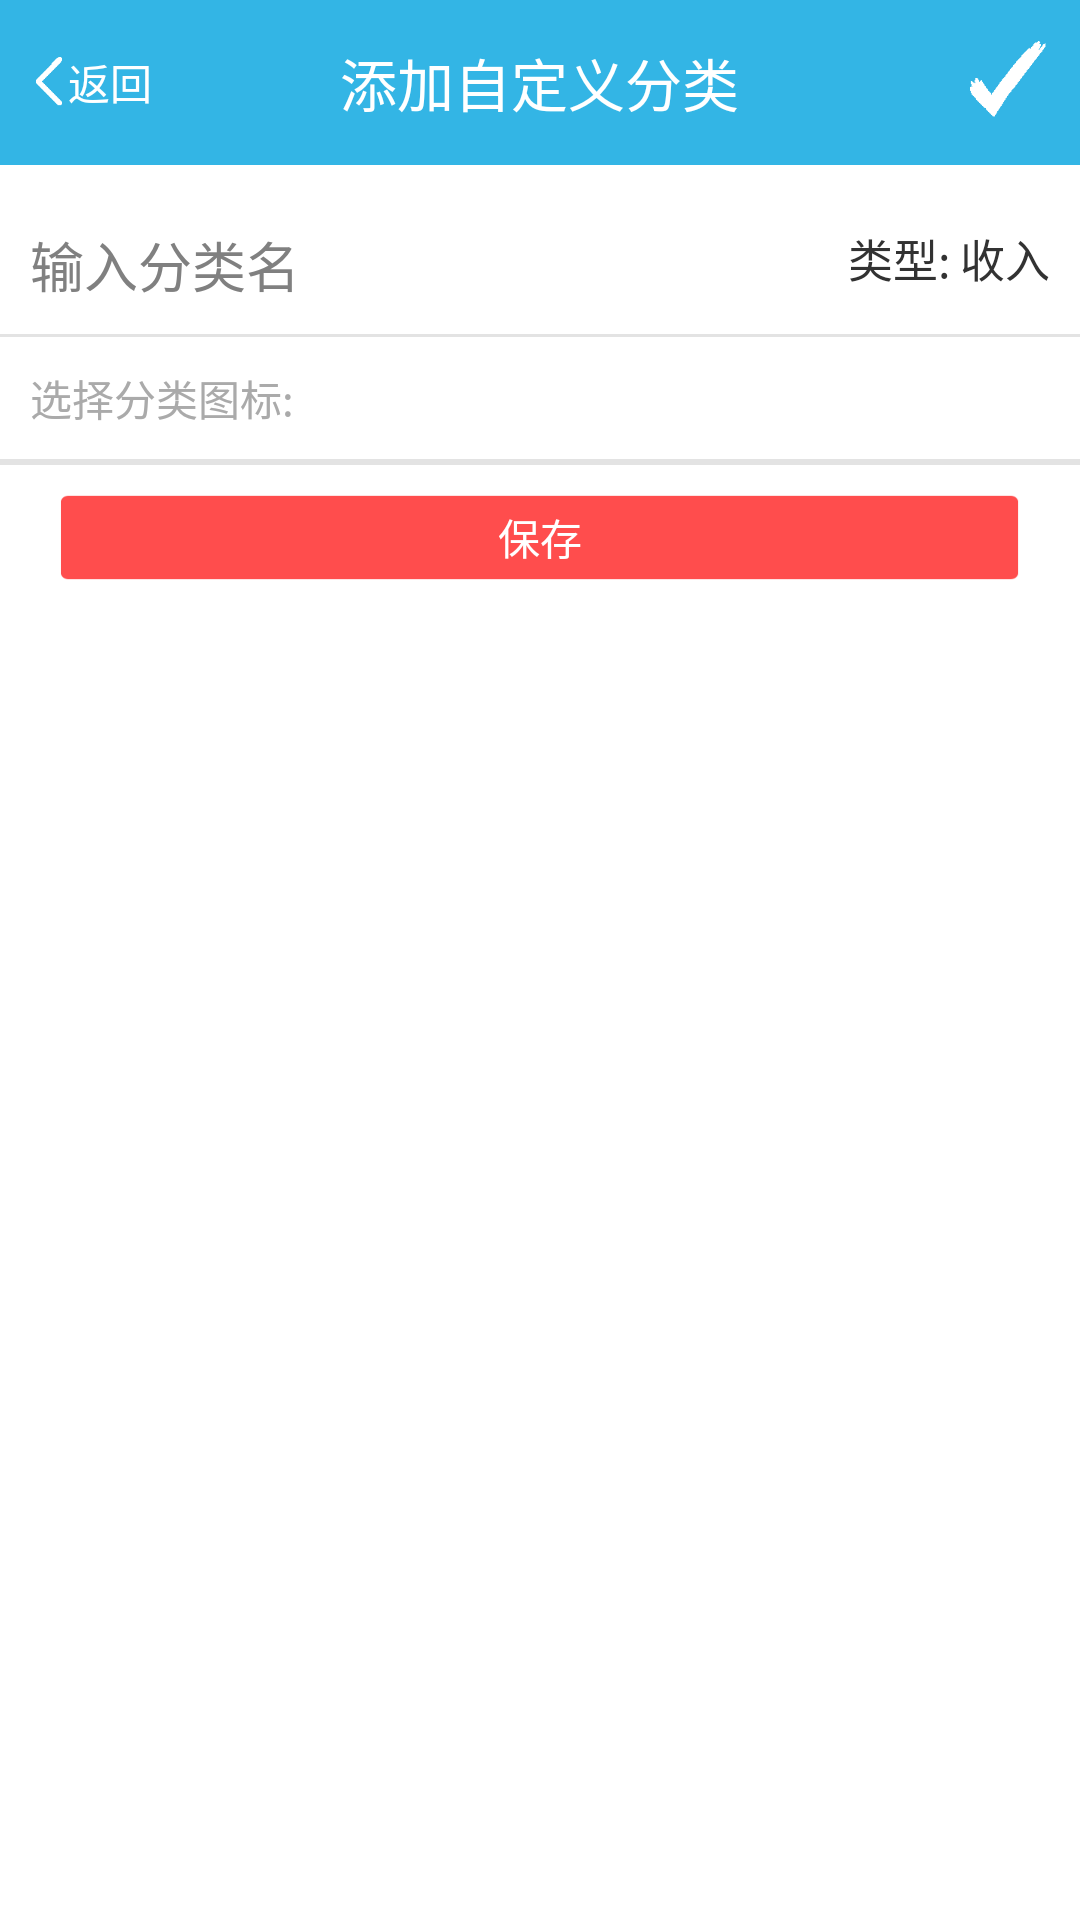

Screen size 1080px x 1920px. Icon name, then its box in pixels as (x1, y1, x2, y2):
add detail comfirm: (970, 41, 1046, 117)
